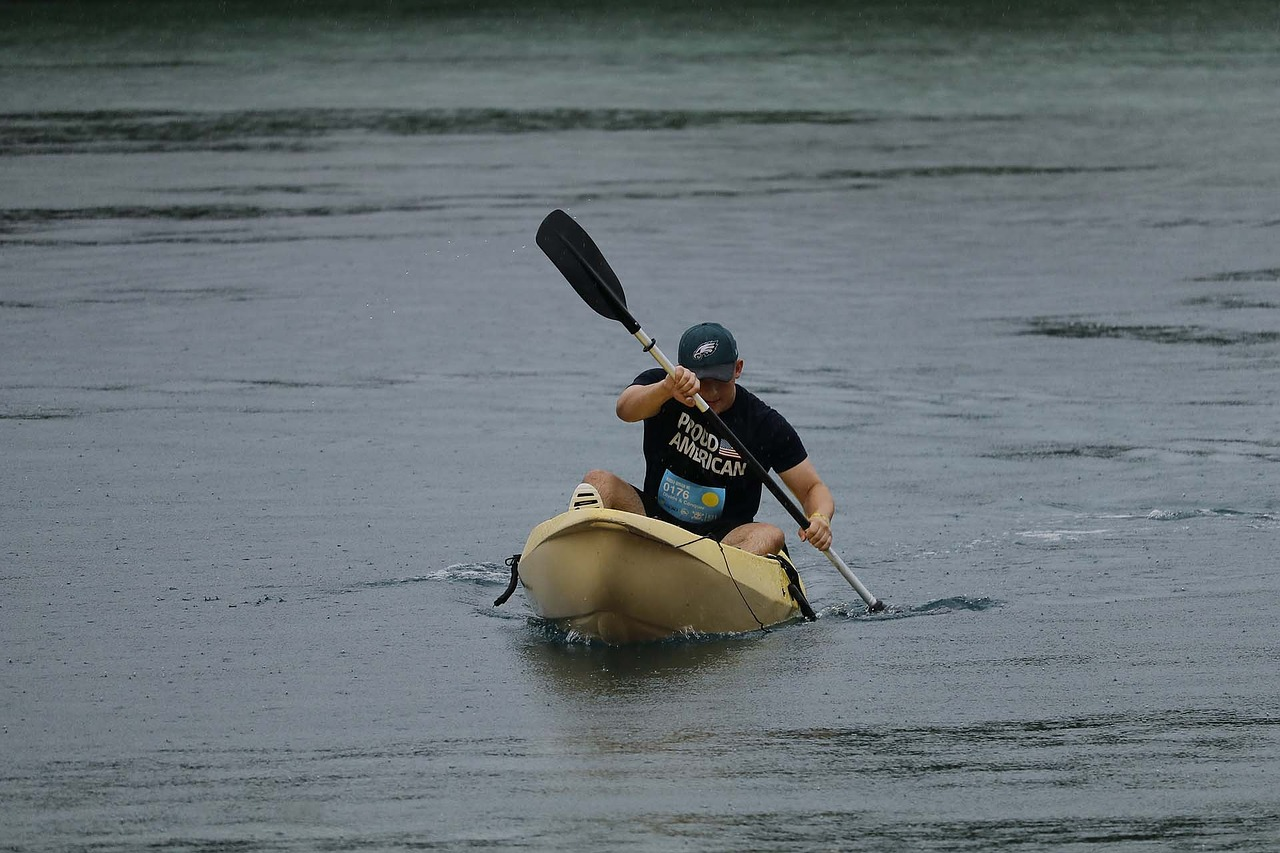kayak: (501, 495, 815, 651)
